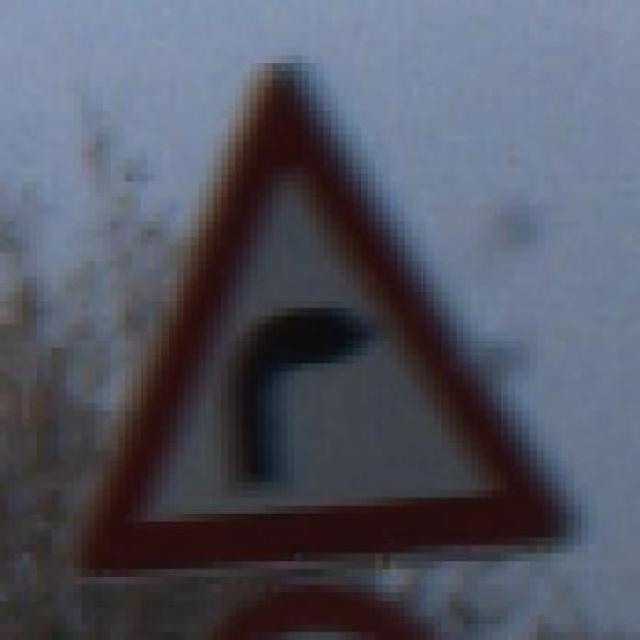Dangerous Rright Curve Ahead: (74, 56, 574, 570)
